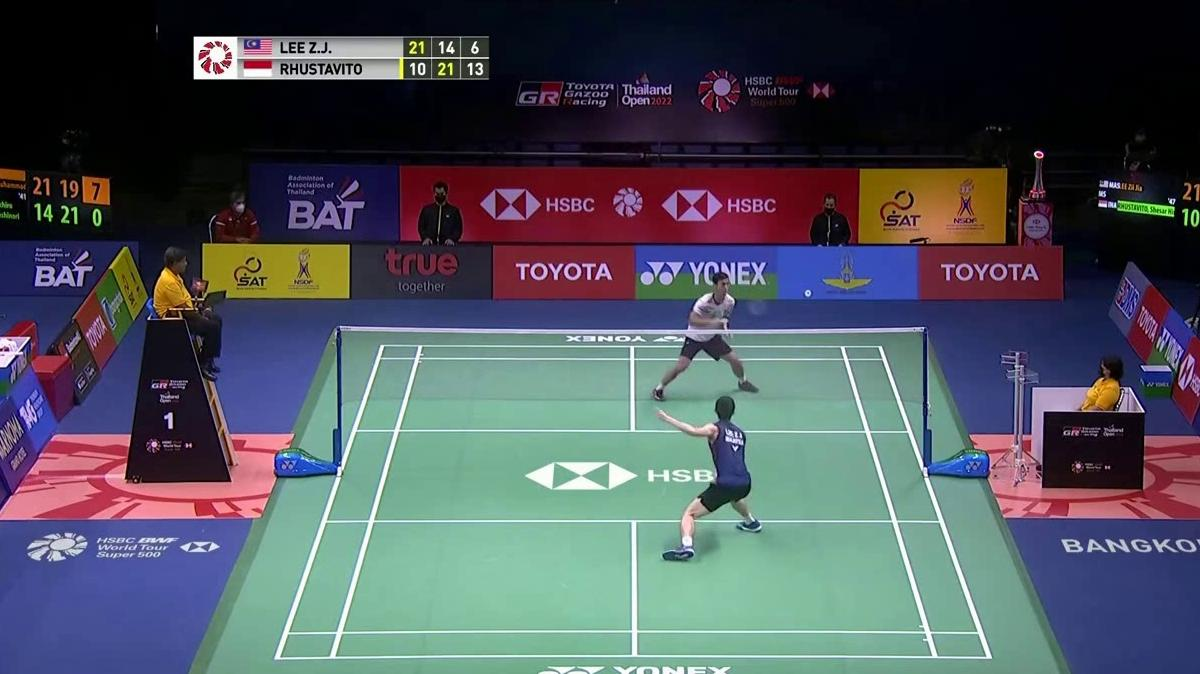racket: (723, 296, 768, 326), (705, 466, 722, 488)
shuttle: (804, 289, 813, 298)
